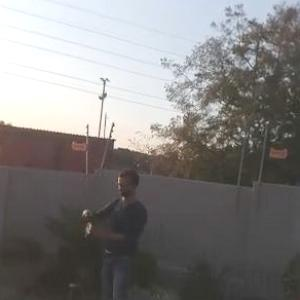follow: (69, 161, 157, 299)
